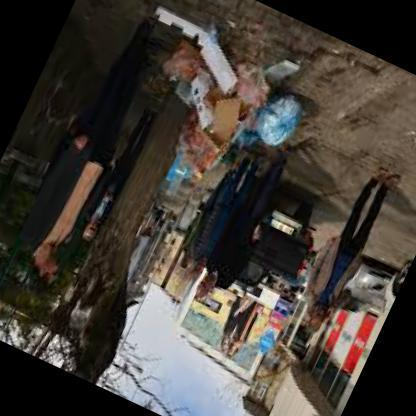Garbage: (165, 52, 272, 206), (224, 42, 326, 167), (169, 30, 254, 118), (148, 7, 232, 96), (152, 5, 221, 52)
